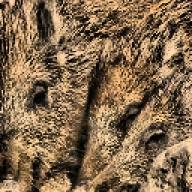boar: (0, 0, 192, 192), (64, 0, 192, 192)
